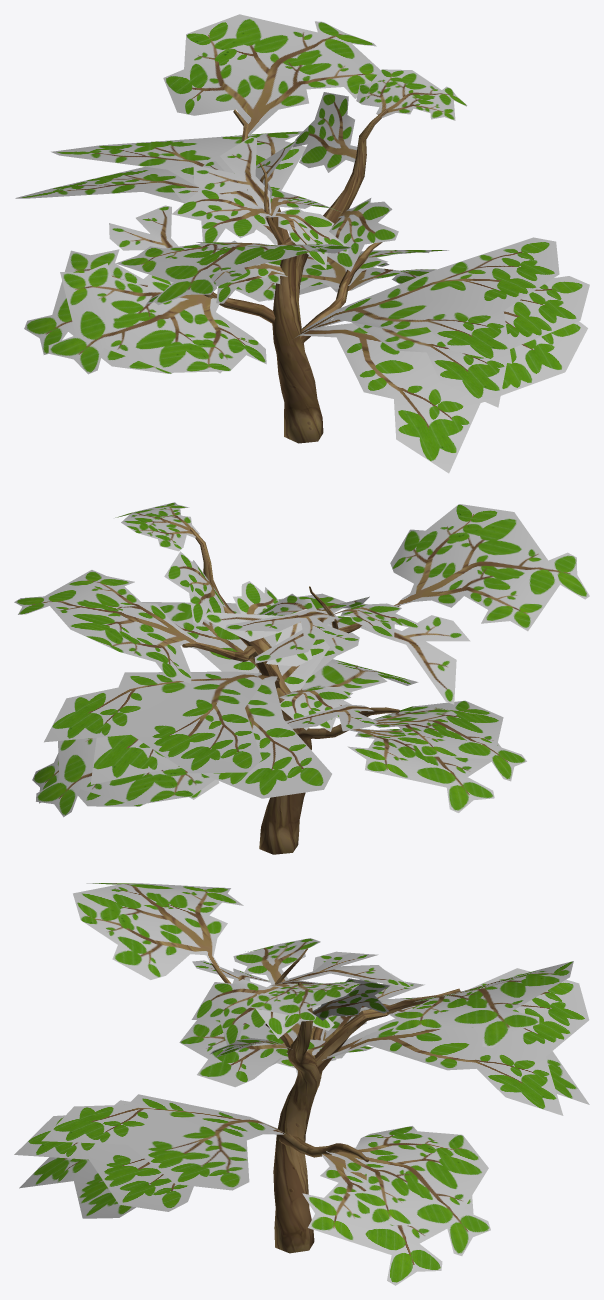
File: LOD_albero2.fbx
The picture shows the model from 3 angles, top to bottom: view 1: azimuth 30°, elevation 25°; view 2: azimuth 150°, elevation 25°; view 3: azimuth 270°, elevation 25°; orthographic projection.
Parts seen in each view (by area): view 1: albero3; view 2: albero3; view 3: albero3.
Boxes of the visible parts, x1,y1,x2,y2 form: albero3: (15, 14, 589, 473); albero3: (14, 502, 589, 854); albero3: (14, 883, 589, 1285).
Bounding box in the file's own units: 6.7 × 4.31 × 7.12.
2 materials, 2 textured.
